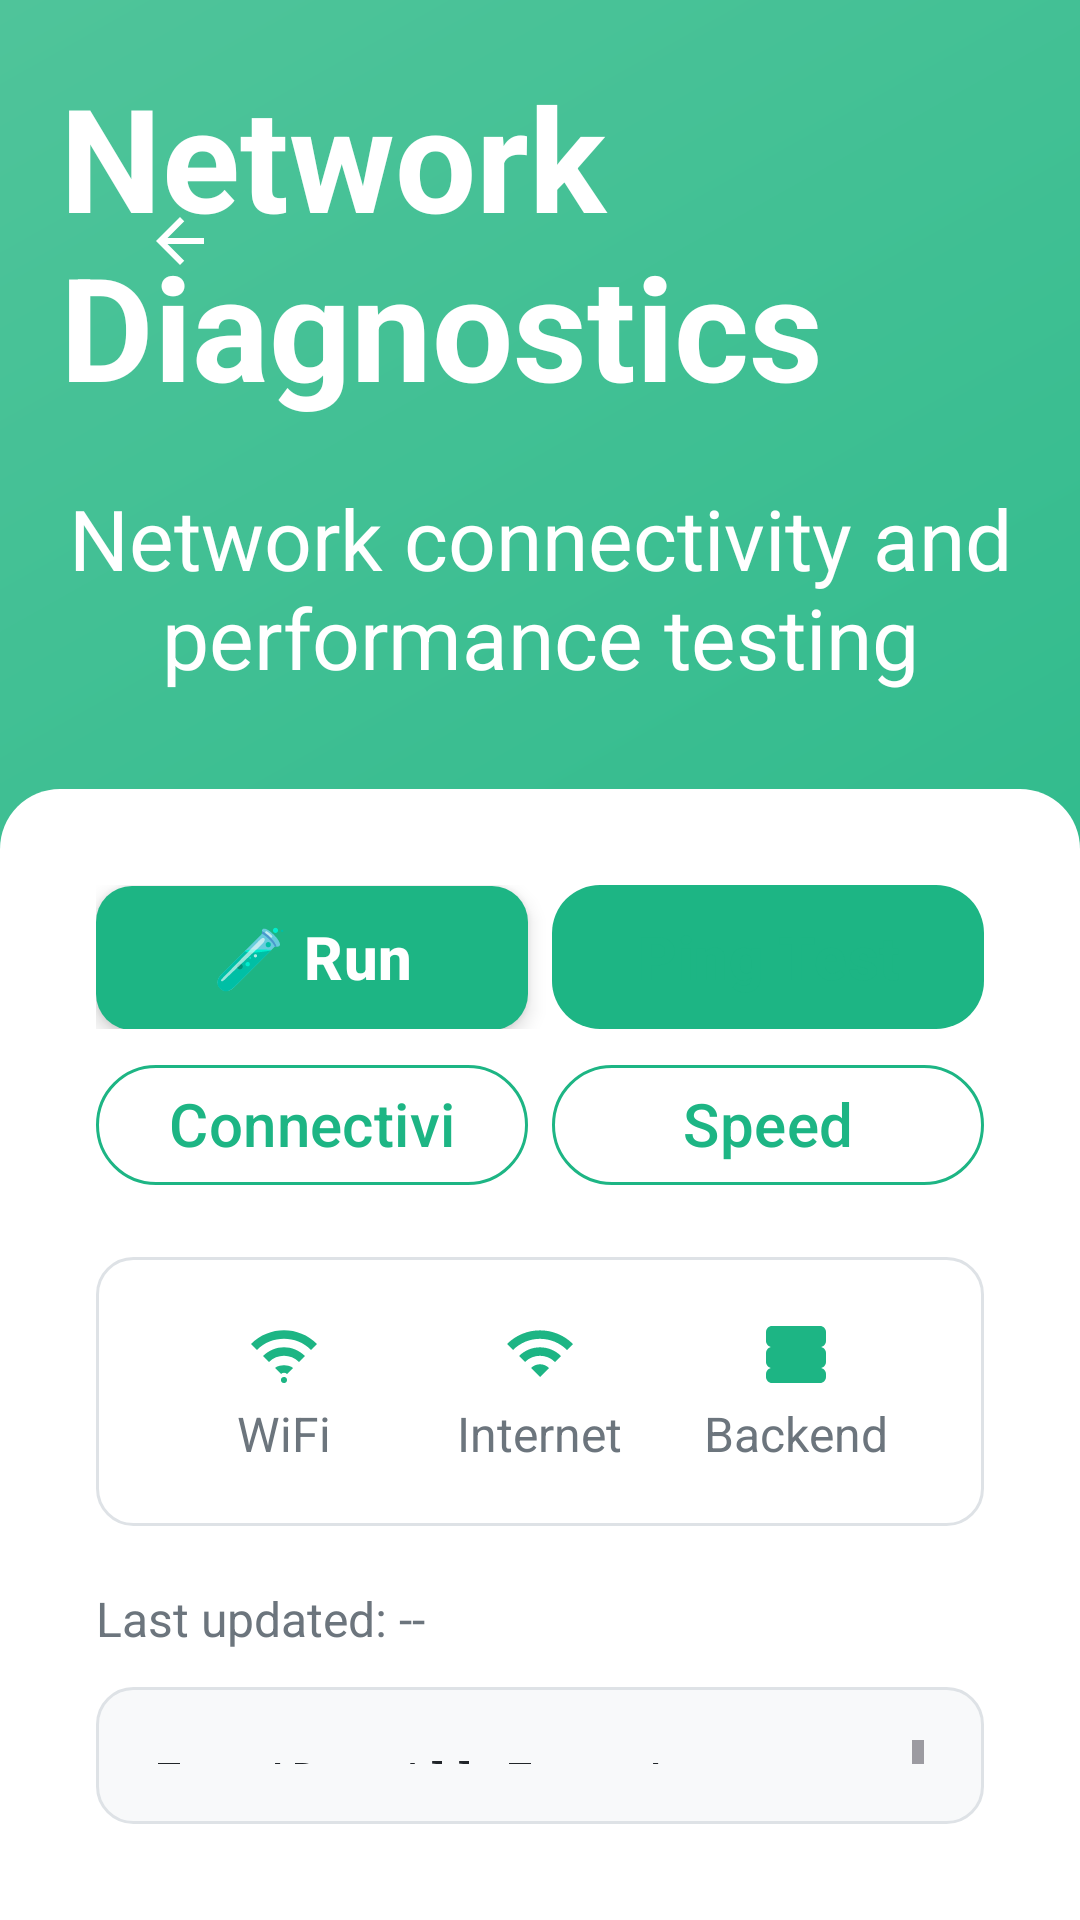

Named icons in this screenshot (1080×1920) and their bounding boxes, (x1, y1, x2, y2):
network: (507, 1330, 573, 1377)
server: (766, 1326, 826, 1383)
